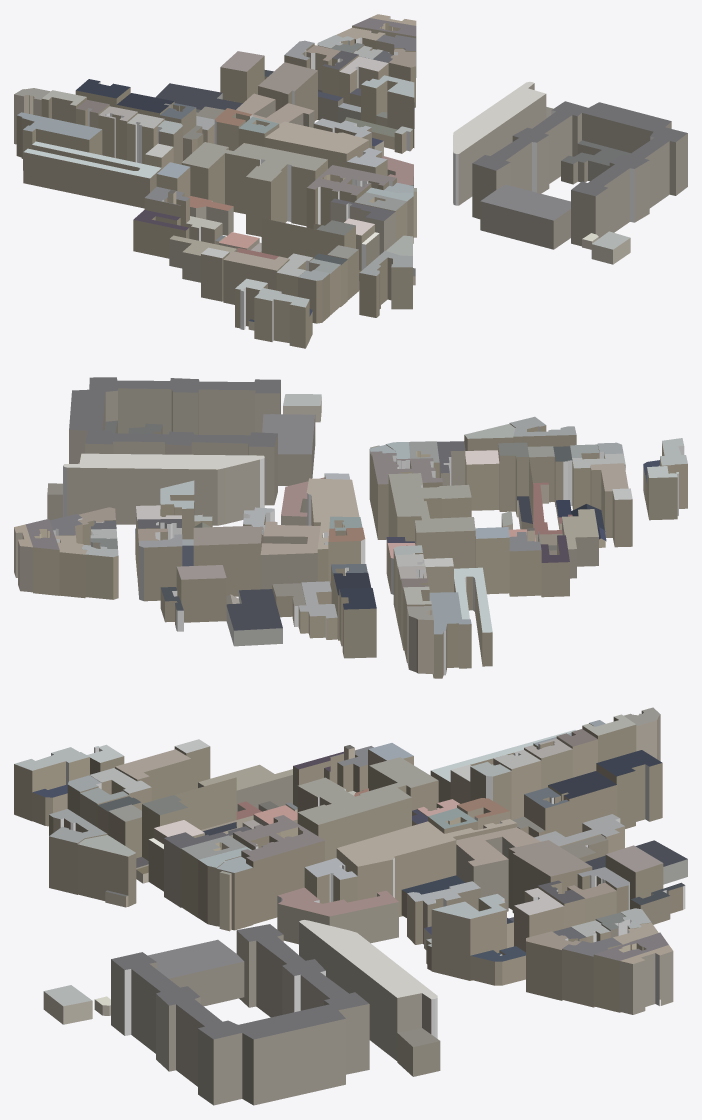
3 views of the same model, one above another, from view 1: azimuth 30°, elevation 25°; view 2: azimuth 150°, elevation 25°; view 3: azimuth 270°, elevation 25° (orthographic). The views are drawn at different scales.
Visible parts, largest first — view 1: tuile; view 2: tuile; view 3: tuile.
Boxes of the visible parts, x1,y1,x2,y2 form: tuile: (14, 14, 687, 348); tuile: (14, 377, 687, 678); tuile: (14, 707, 687, 1105).
Bounding box in the file's own units: 301 × 46.64 × 276.
